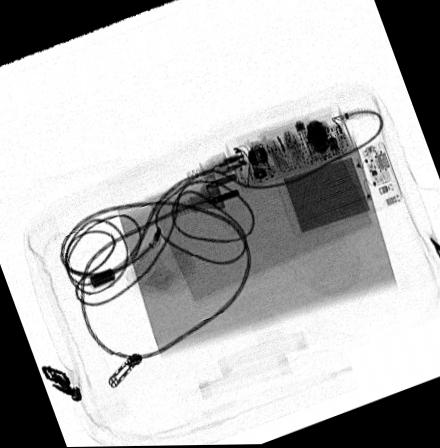Powerbank: (273, 140, 406, 240)
